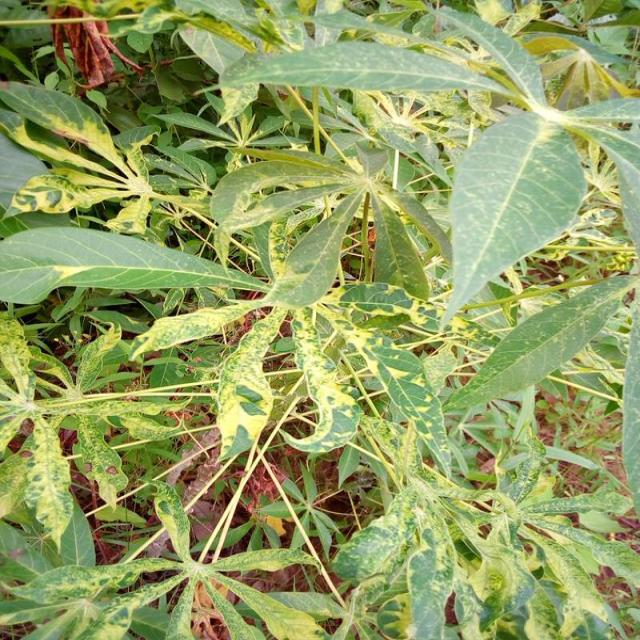cassava leaf: (0, 1, 638, 638), (438, 108, 588, 330), (0, 224, 269, 305)
